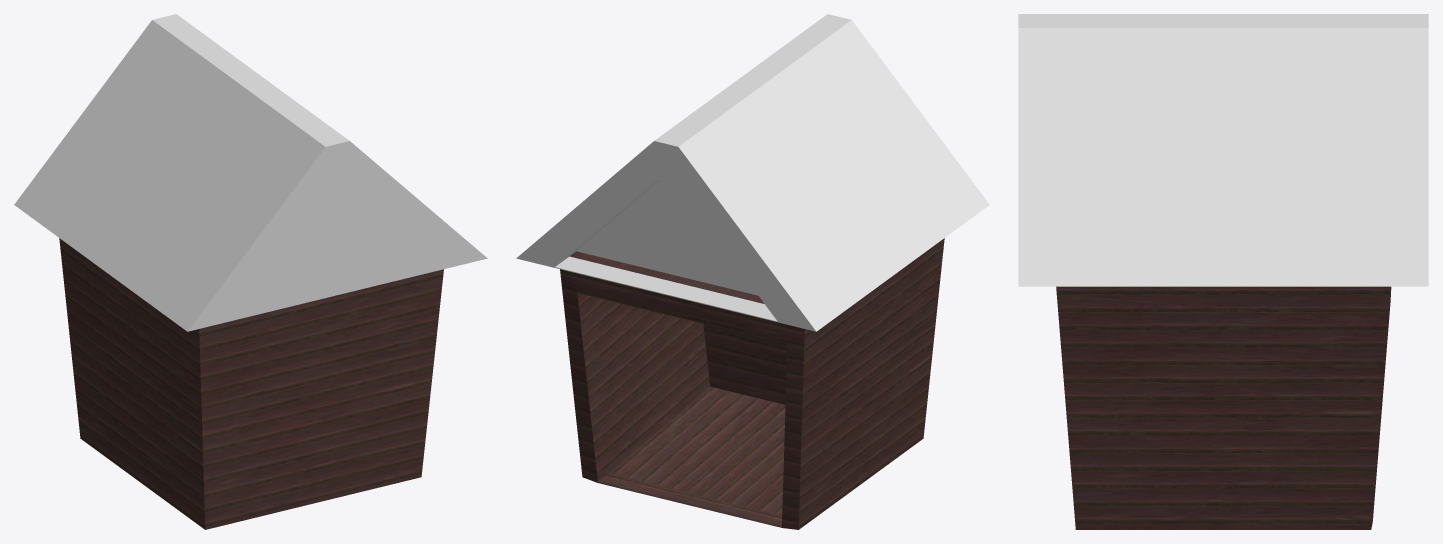
The model's file is house.fbx.
The picture shows the model from 3 angles, left to right: view 1: azimuth 30°, elevation 25°; view 2: azimuth 150°, elevation 25°; view 3: azimuth 270°, elevation 25°; orthographic projection. The views are drawn at different scales.
Parts seen in each view (by area): view 1: Cube; view 2: Cube; view 3: Cube.
Boxes of the visible parts, x1=… form: Cube: x1=14, y1=14, x2=487, y2=529; Cube: x1=516, y1=14, x2=989, y2=529; Cube: x1=1018, y1=14, x2=1428, y2=529.
Size of the model in its own units: 411 by 495 by 411.
